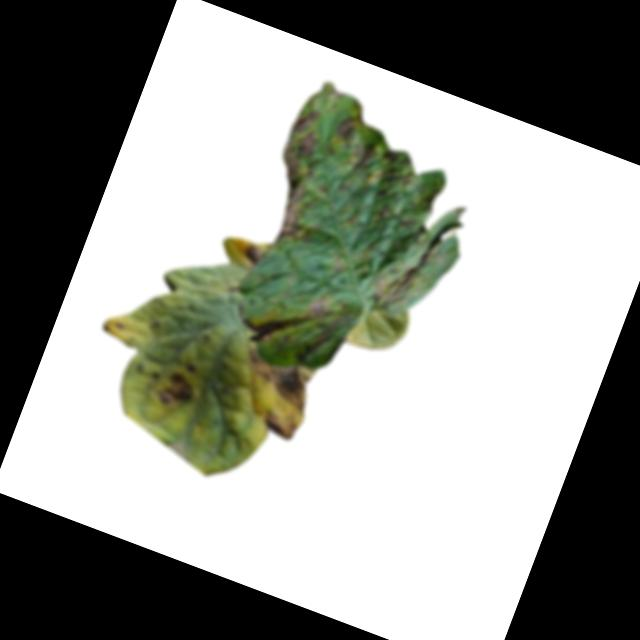Early_blight: (248, 101, 345, 250), (240, 272, 335, 363), (233, 343, 319, 413), (341, 137, 422, 201), (155, 367, 200, 414), (253, 405, 301, 442), (334, 109, 365, 145), (241, 238, 269, 266), (183, 359, 199, 374)
